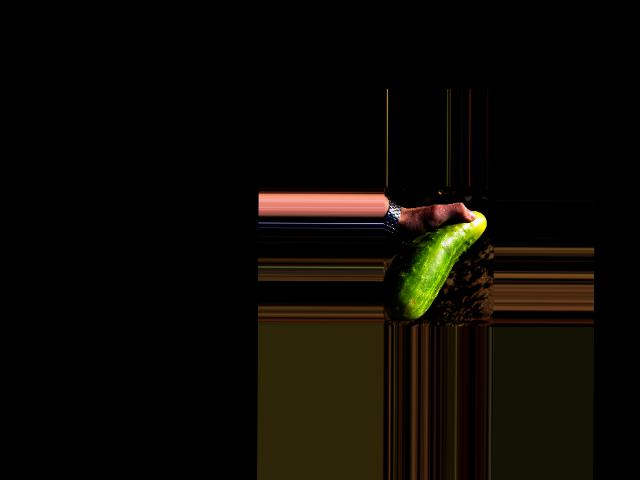cucumber: (382, 210, 486, 322)
